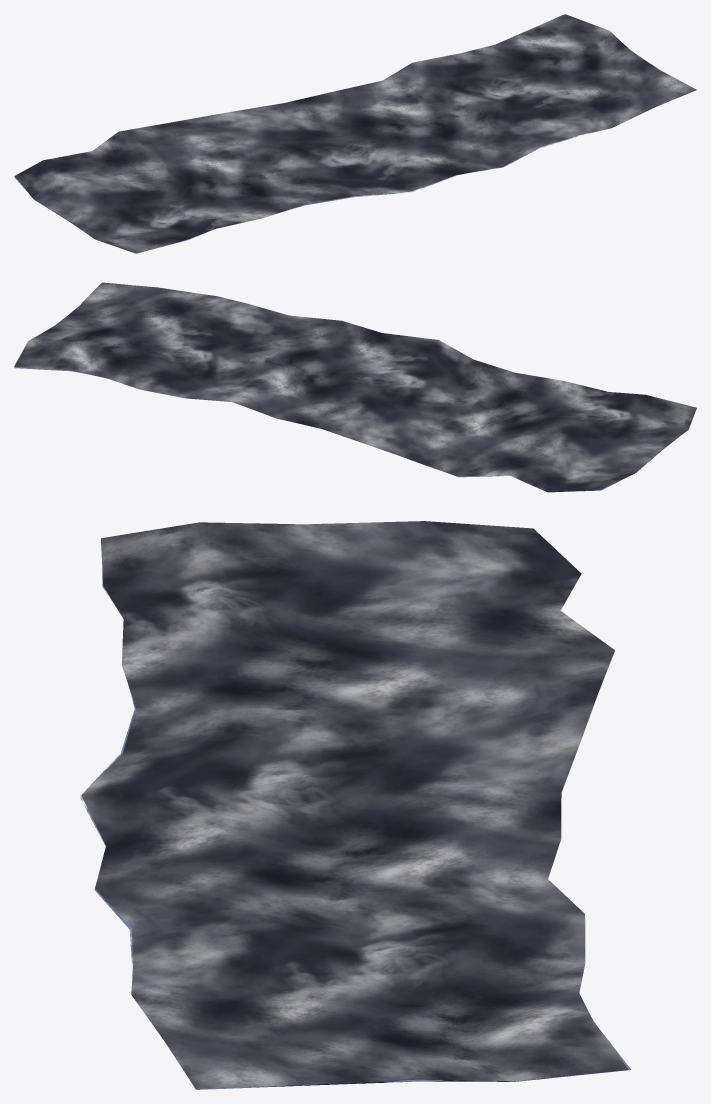
File: EKH_ENTRANCE_WATER_EN_WATER_03.fbx
3 renders of one model, top to bottom at view 1: azimuth 30°, elevation 25°; view 2: azimuth 150°, elevation 25°; view 3: azimuth 270°, elevation 25°, orthographic. The views are drawn at different scales.
Visible parts, largest first — view 1: EKH_ENTRANCE_WATER_EN_WATER_03; view 2: EKH_ENTRANCE_WATER_EN_WATER_03; view 3: EKH_ENTRANCE_WATER_EN_WATER_03.
Boxes of the visible parts, x1,y1,x2,y2 form: EKH_ENTRANCE_WATER_EN_WATER_03: (14, 14, 696, 253); EKH_ENTRANCE_WATER_EN_WATER_03: (14, 282, 696, 492); EKH_ENTRANCE_WATER_EN_WATER_03: (79, 521, 630, 1089).
Bounding box in the file's own units: 232038 × 3234 × 93797.
2 materials, 2 textured.
